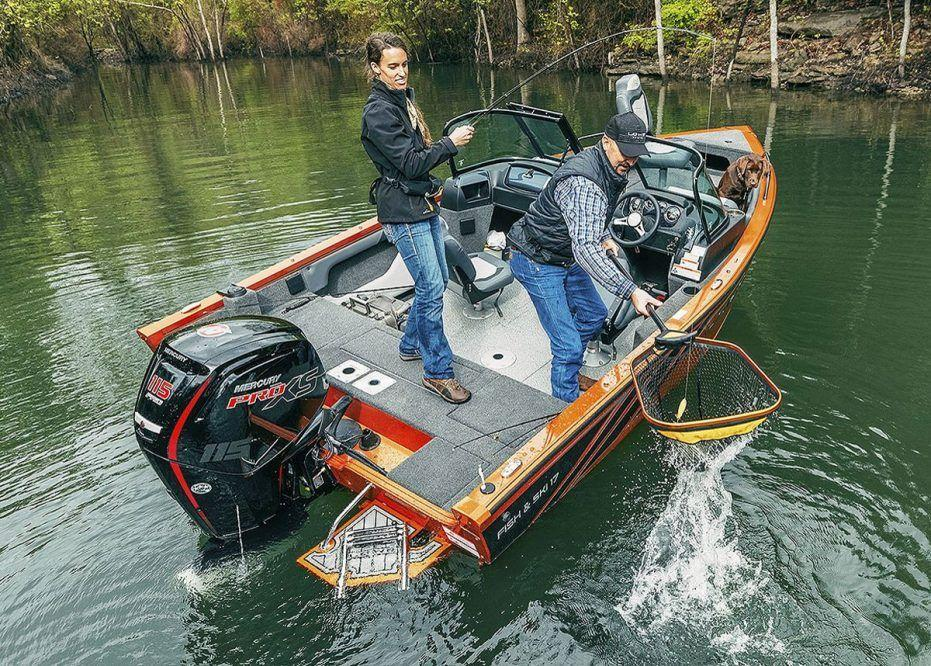fishing boat: (128, 30, 796, 605)
